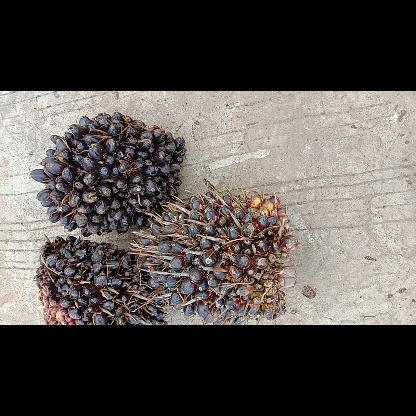TBS mentah: (136, 188, 302, 324), (28, 109, 188, 237), (34, 232, 170, 324)
